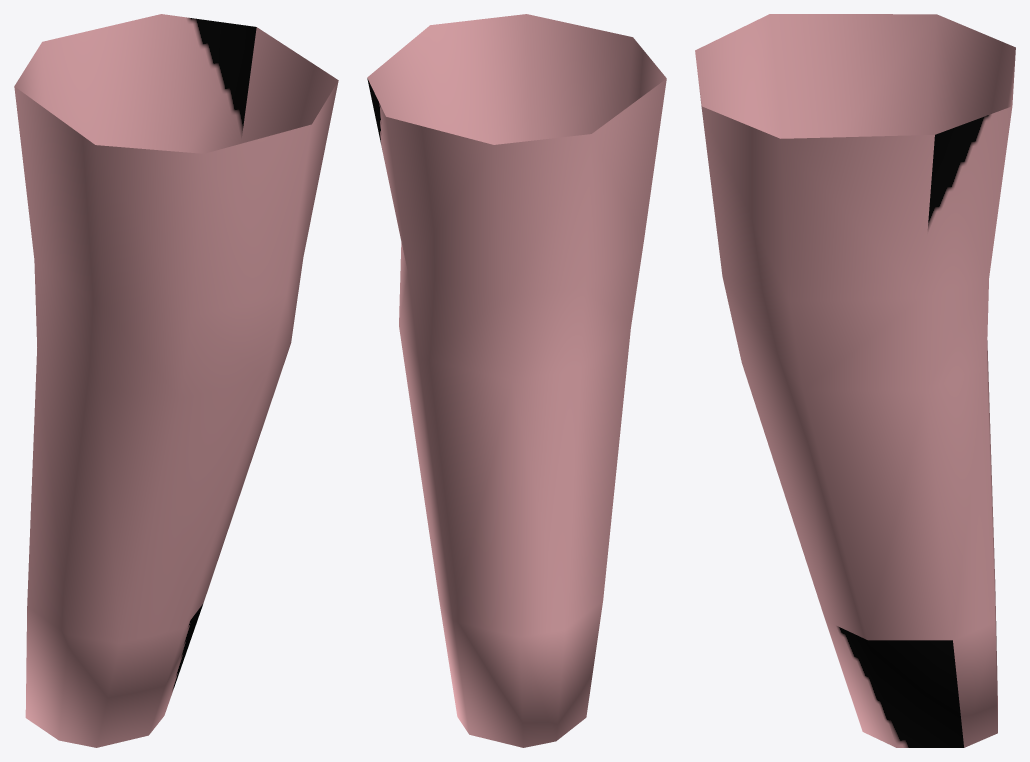
Rendered from leg_L.obj.
3 views of the same model, side by side, from view 1: azimuth 30°, elevation 25°; view 2: azimuth 150°, elevation 25°; view 3: azimuth 270°, elevation 25° (orthographic). The views are drawn at different scales.
Visible parts, largest first — view 1: leg_L; view 2: leg_L; view 3: leg_L.
Part boxes in pixels (x1,y1,x2,y2): leg_L: [14, 14, 338, 747]; leg_L: [367, 14, 666, 747]; leg_L: [695, 14, 1015, 747].
Bounding box in the file's own units: 0.1989 × 0.4955 × 0.2153.
1 material, 1 textured.
